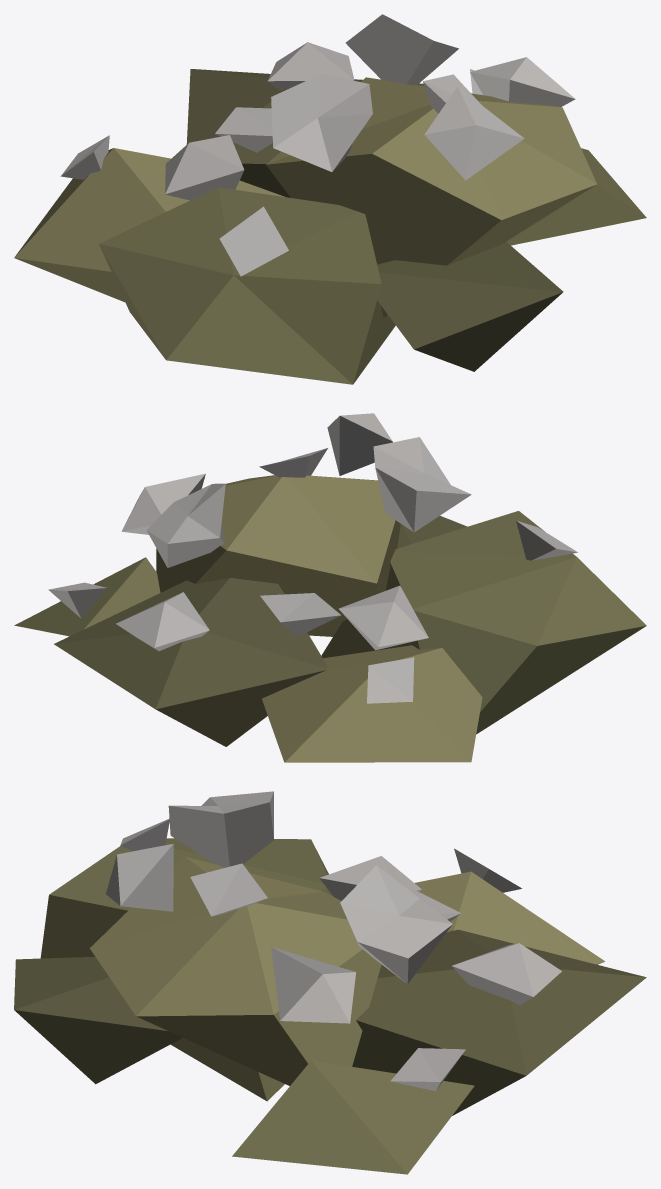
File: SM_Env_Flowers_03.glb
3 renders of one model, top to bottom at view 1: azimuth 30°, elevation 25°; view 2: azimuth 150°, elevation 25°; view 3: azimuth 270°, elevation 25°, orthographic. The views are drawn at different scales.
Parts seen in each view (by area): view 1: SM_Env_Flowers_03; view 2: SM_Env_Flowers_03; view 3: SM_Env_Flowers_03.
Boxes of the visible parts, x1,y1,x2,y2 form: SM_Env_Flowers_03: [14, 14, 646, 384]; SM_Env_Flowers_03: [14, 413, 646, 762]; SM_Env_Flowers_03: [14, 791, 646, 1174].
Bounding box in the file's own units: 0.9598 × 0.4813 × 0.9305.
Materials: 1 (1 with a texture image).
